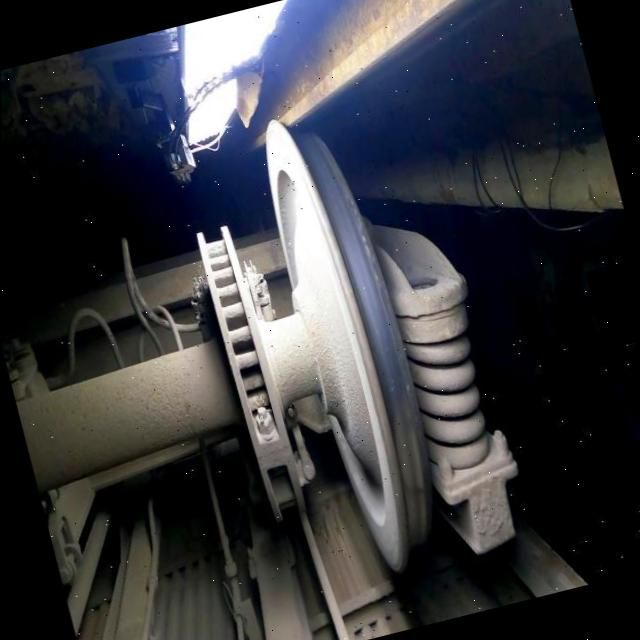Cracks-Scratches: (345, 196, 382, 296)
Shelling: (390, 395, 425, 548)
Wheel: (263, 120, 429, 572)
